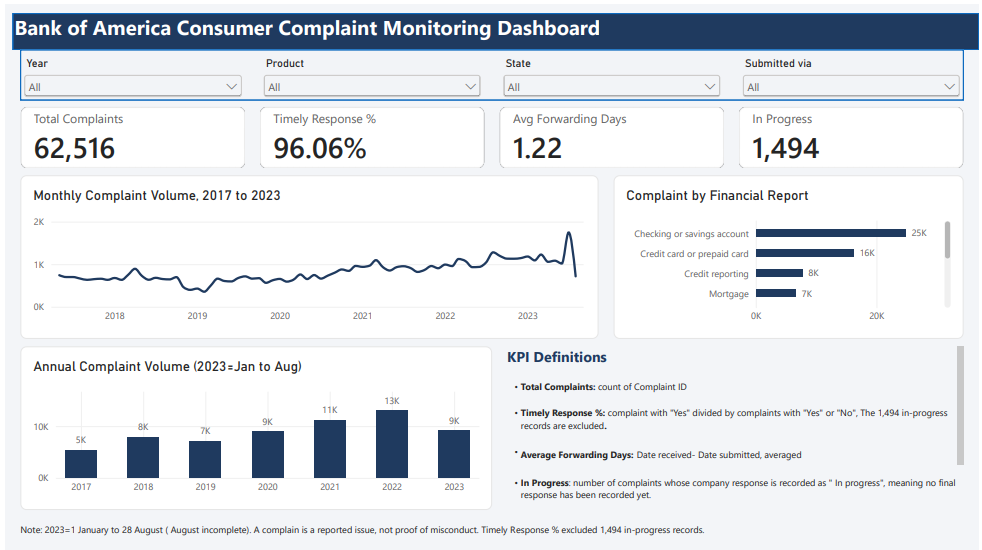

The page's visual inventory and layout, read from the dashboard file:
{"tool":"powerbi","page":{"name":"Executive Overview","canvas":[1280,720],"ordinal":0},"visuals":[{"type":"shape","box":[10.1,11.8,1269.9,48.7],"z":0},{"type":"textbox","box":[11.8,11.8,1258.2,48.7],"z":1},{"type":"shape","box":[20.2,60.5,1239.7,65.5],"z":2},{"type":"slicer","fields":{"Values":["Data.Year"]},"box":[20,70,295.6,55],"z":3},{"type":"slicer","fields":{"Values":["Data.Product_Final"]},"box":[335,70,295,55],"z":4},{"type":"slicer","fields":{"Values":["Data.State"]},"box":[650,70,295,55],"z":5},{"type":"slicer","fields":{"Values":["Data.Submitted via"]},"box":[965,70,295,55],"z":6},{"type":"cardVisual","title":"Total Complaints","fields":{"Data":["Data.Total Complaints"]},"box":[20,135,295,80],"z":7},{"type":"cardVisual","fields":{"Data":["Data.Timely Response %"]},"box":[335,135,295,80],"z":8},{"type":"cardVisual","fields":{"Data":["Data.Avg Forwarding Days"]},"box":[650,135,295,80],"z":9},{"type":"cardVisual","fields":{"Data":["Data.In Progress"]},"box":[965,135,295,80],"z":10},{"type":"lineChart","title":"Monthly Complaint Volume, 2017 to 2023","fields":{"Category":["Data.Month Start"],"Y":["Data.Total Complaints"]},"box":[20,225,760,215],"z":11},{"type":"clusteredBarChart","title":"Complaint by Financial Report","fields":{"Category":["Data.Product_Final"],"Y":["Data.Total Complaints"]},"box":[800,225,460,215],"z":12},{"type":"clusteredColumnChart","title":"Annual Complaint Volume (2023=Jan to Aug)","fields":{"Category":["Data.Year"],"Y":["Data.Total Complaints"]},"box":[20,450,620,215],"z":13},{"type":"textbox","box":[660,450,600,215],"z":14},{"type":"textbox","box":[20,680,1240,28],"z":15}]}

Visuals, with their boxes in screenshot pixels (x1, y1, x2, y2), scaled from the page's 1280x720 canvas onto the 982x550 screenshot:
shape: (x1=8, y1=9, x2=981, y2=46)
textbox: (x1=9, y1=9, x2=974, y2=46)
shape: (x1=15, y1=46, x2=967, y2=96)
slicer - Data.Year: (x1=15, y1=53, x2=242, y2=95)
slicer - Data.Product_Final: (x1=257, y1=53, x2=483, y2=95)
slicer - Data.State: (x1=499, y1=53, x2=725, y2=95)
slicer - Data.Submitted via: (x1=740, y1=53, x2=967, y2=95)
"Total Complaints" cardVisual: (x1=15, y1=103, x2=242, y2=164)
cardVisual - Data.Timely Response %: (x1=257, y1=103, x2=483, y2=164)
cardVisual - Data.Avg Forwarding Days: (x1=499, y1=103, x2=725, y2=164)
cardVisual - Data.In Progress: (x1=740, y1=103, x2=967, y2=164)
"Monthly Complaint Volume, 2017 to 2023" lineChart: (x1=15, y1=172, x2=598, y2=336)
"Complaint by Financial Report" clusteredBarChart: (x1=614, y1=172, x2=967, y2=336)
"Annual Complaint Volume (2023=Jan to Aug)" clusteredColumnChart: (x1=15, y1=344, x2=491, y2=508)
textbox: (x1=506, y1=344, x2=967, y2=508)
textbox: (x1=15, y1=519, x2=967, y2=541)
